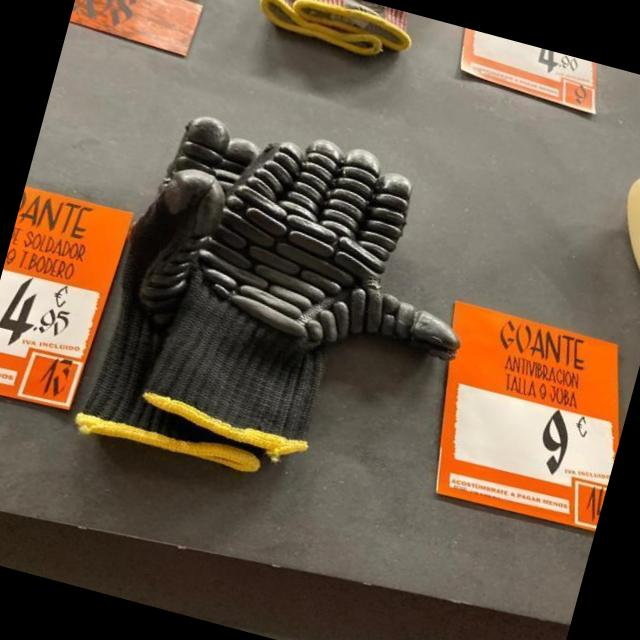forklift: (69, 92, 496, 529)
